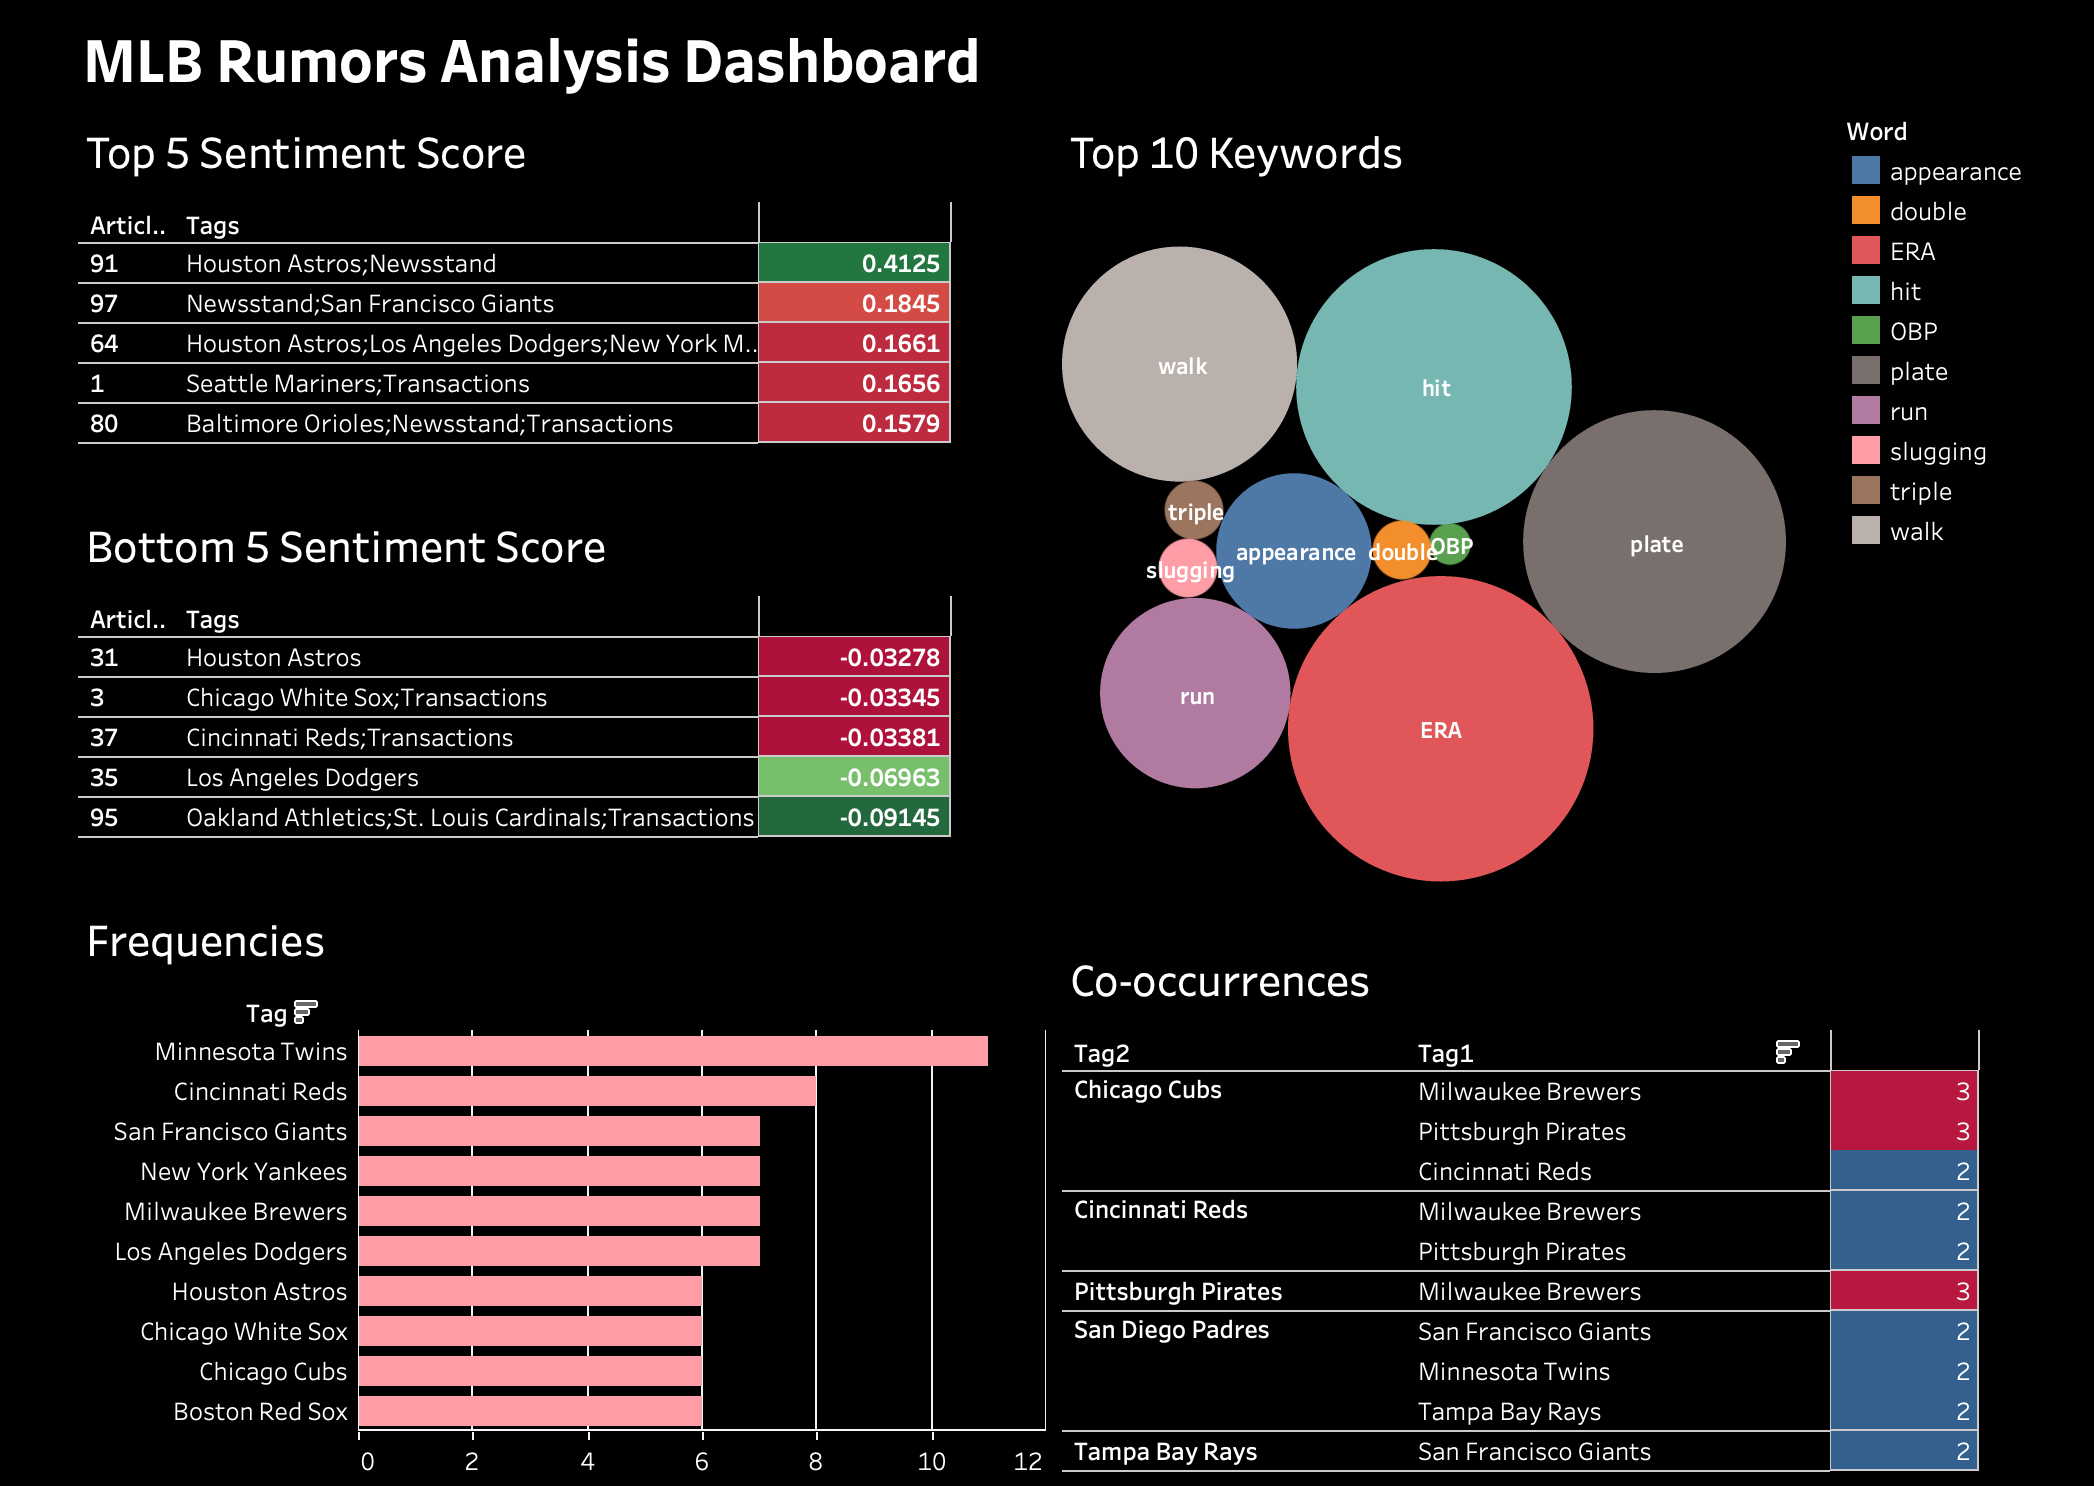

The page's visual inventory and layout, read from the dashboard file:
{"tool":"tableau","page":{"name":"MLB Rumors Analysis Dashboard","canvas":[1000,800],"ordinal":0},"visuals":[{"type":"title","box":[8,8,984,48]},{"type":"worksheet","title":"Top 5 Sentiment Score","mark":"Square","rows":["article_id (sentiment_analysis.csv)","tags"],"box":[8,56,492,197.1]},{"type":"worksheet","title":"Top 10 Keywords","mark":"Circle","box":[500,56,392,414]},{"type":"legend","title":"Top 10 Keywords","param":"[federated.1dbwcgk13cxe7110250zb0d9wggi].[none:Word:nk]","box":[892,56,100,414]},{"type":"worksheet","title":"Bottom 5 Sentiment Score","mark":"Square","rows":["article_id (sentiment_analysis.csv)","tags"],"box":[8,253.1,492,197.1]},{"type":"worksheet","title":"Frequencies","mark":"Automatic","rows":["Tag"],"cols":["Count"],"box":[8,450.3,492,341.7]},{"type":"worksheet","title":"Co-occurrences","mark":"Square","rows":["Tag2","Tag1"],"box":[500,470,492,322]}]}

Visuals, with their boxes on the page's 1000x800 design canvas (x1, y1, x2, y2). These are canvas units, not pixel positions in the 2094x1486 screenshot, which may show the page scaled, cropped or inside an application window:
title: left=8, top=8, right=992, bottom=56
"Top 5 Sentiment Score" worksheet (Square marks): left=8, top=56, right=500, bottom=253
"Top 10 Keywords" worksheet (Circle marks): left=500, top=56, right=892, bottom=470
"Top 10 Keywords" legend: left=892, top=56, right=992, bottom=470
"Bottom 5 Sentiment Score" worksheet (Square marks): left=8, top=253, right=500, bottom=450
"Frequencies" worksheet: left=8, top=450, right=500, bottom=792
"Co-occurrences" worksheet (Square marks): left=500, top=470, right=992, bottom=792
